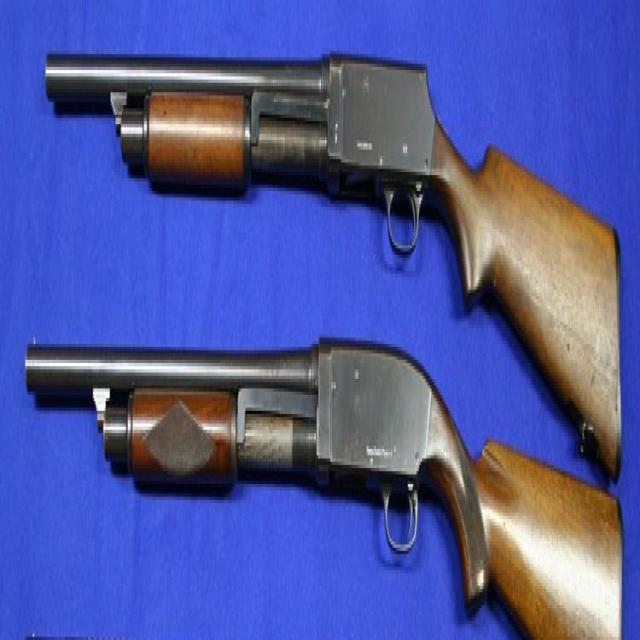ShotGun: (45, 54, 620, 474), (25, 341, 623, 640)
